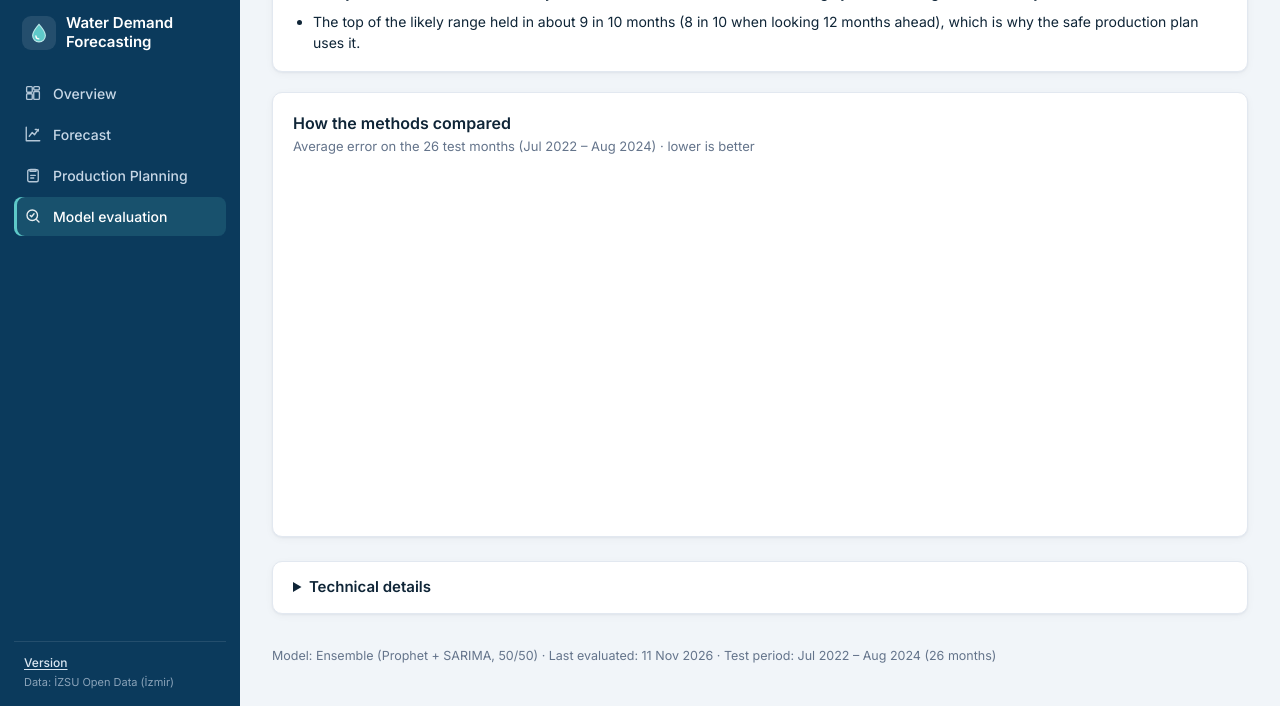
Test: "Likely range reliability" shows all 4 calibrated/raw ranges
(page scrolled)
Click the heading "Technical details".
click(370, 586)  # box [272,561,1248,614]
(page scrolled)
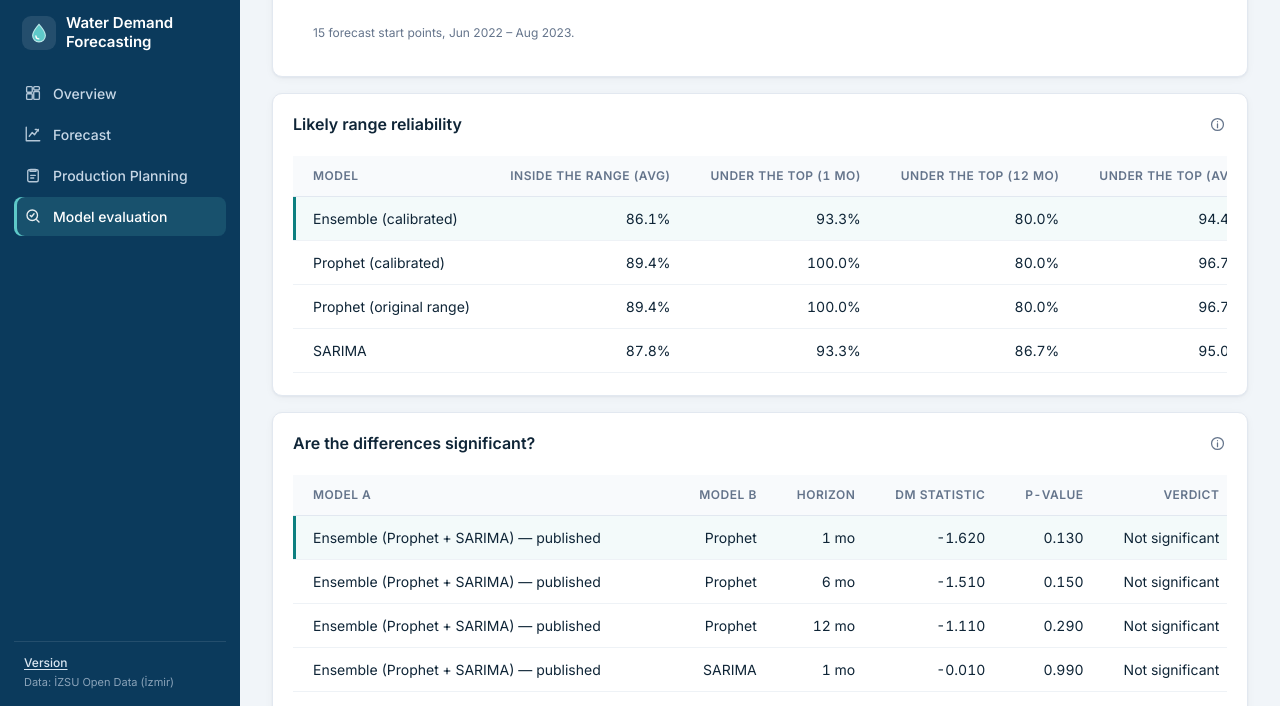
Expected: the text "Ensemble (calibrated)" is shown, [293,196,490,240]
Expected: the text "Prophet (calibrated)" is shown, [293,240,490,284]
Expected: the text "Prophet (original range)" is shown, [293,284,490,328]
